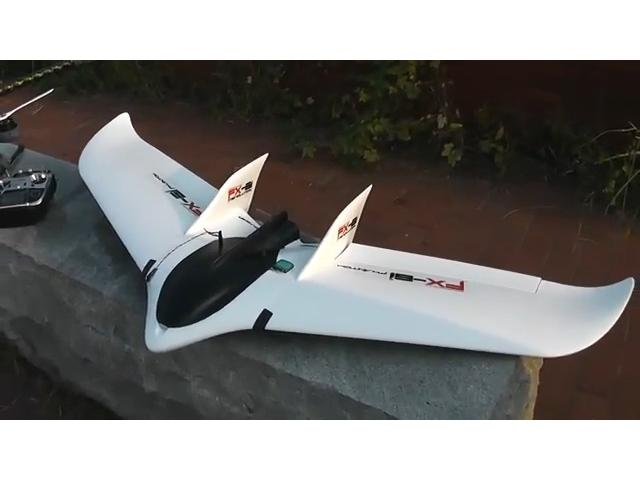Anti-Drone: (52, 102, 640, 378)
